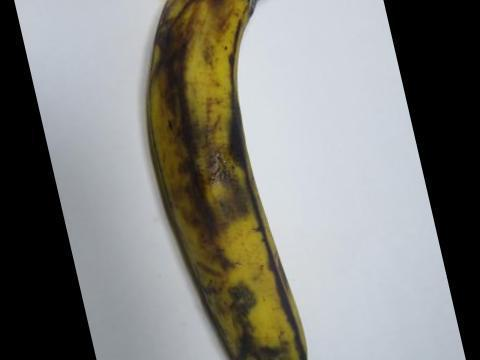overripe: (129, 0, 324, 359)
rotten: (179, 120, 274, 225)
